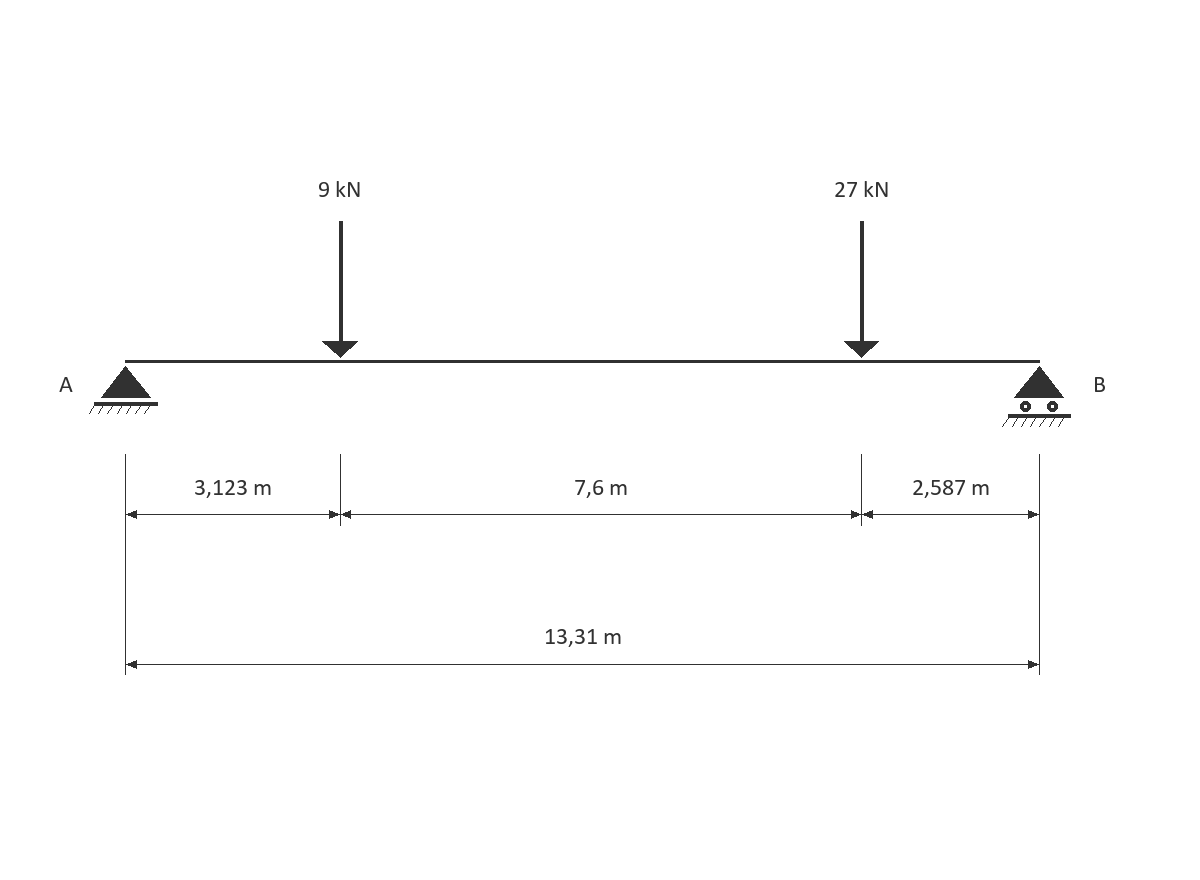pin_support: (89, 366, 158, 414)
point_load: (322, 221, 358, 358), (844, 221, 879, 358)
roller_support: (1002, 366, 1071, 427)
